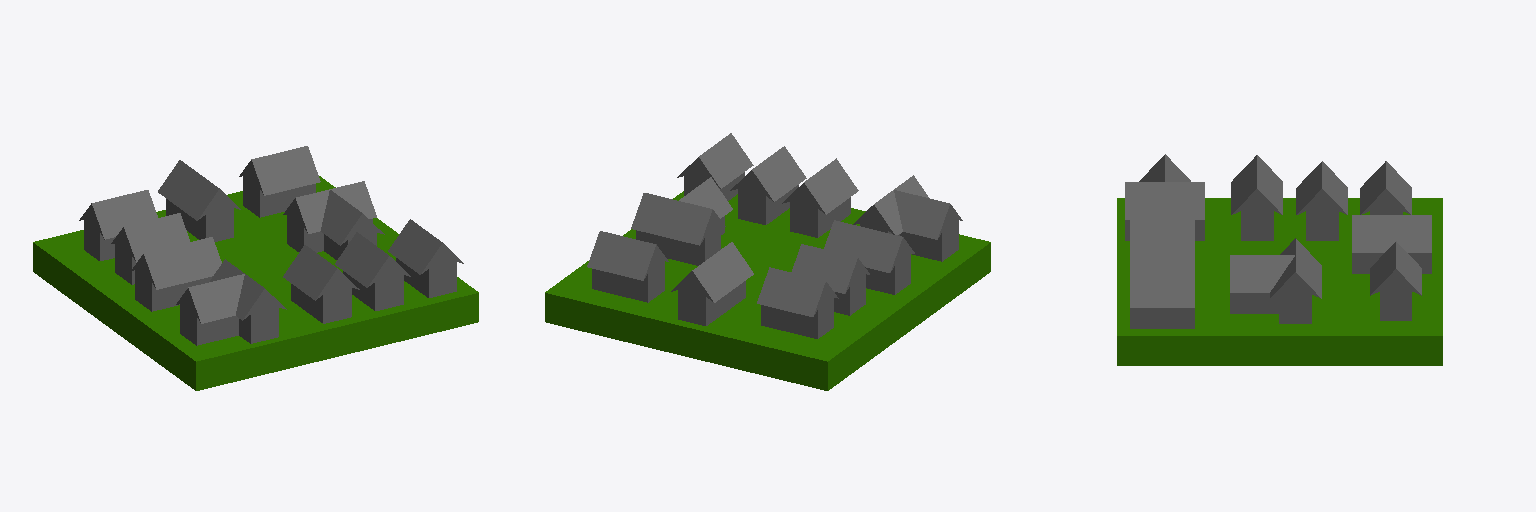
File: House.obj
3 renders of one model, left to right at view 1: azimuth 30°, elevation 25°; view 2: azimuth 150°, elevation 25°; view 3: azimuth 270°, elevation 25°, orthographic.
Visible parts, largest first — view 1: Tilebase100, Box604, Box599, Box598, Box603, Box606, Box608, Box607, Box609, Box600, Box602, Box605 (+1 smaller); view 2: Tilebase100, Box600, Box599, Box609, Box598, Box604, Box603, Box607, Box606, Box602, Box608, Box605 (+1 smaller); view 3: Tilebase100, Box608, Box598, Box604, Box605, Box601, Box602, Box599, Box600, Box609, Box603, Box607 (+1 smaller).
Part boxes in pixels (x1,y1,x2,y2): Tilebase100: (33, 176, 478, 390); Box604: (131, 237, 221, 311); Box599: (239, 146, 320, 217); Box598: (158, 160, 240, 241); Box603: (283, 245, 359, 323); Box606: (176, 274, 244, 345); Box608: (388, 219, 463, 297); Box607: (335, 232, 410, 310); Box609: (79, 190, 157, 260); Box600: (283, 181, 376, 252); Box602: (111, 213, 189, 284); Box605: (210, 259, 286, 343); Tilebase100: (545, 191, 990, 390); Box600: (631, 193, 725, 265); Box599: (587, 231, 668, 302); Box609: (757, 267, 838, 338); Box598: (671, 242, 753, 325); Box604: (824, 220, 914, 294); Box603: (782, 158, 858, 237); Box607: (730, 146, 806, 224); Box606: (894, 190, 962, 261); Box602: (791, 244, 869, 315); Box608: (677, 133, 753, 200); Box605: (853, 175, 928, 235); Tilebase100: (1117, 198, 1442, 365); Box608: (1130, 270, 1194, 328); Box598: (1352, 215, 1431, 273); Box604: (1231, 155, 1282, 240); Box605: (1125, 182, 1204, 240); Box601: (1230, 255, 1294, 313); Box602: (1296, 161, 1347, 240); Box599: (1370, 241, 1421, 320); Box600: (1270, 238, 1321, 323); Box609: (1360, 161, 1411, 214); Box603: (1130, 218, 1194, 243); Box607: (1130, 244, 1194, 269).
Bounding box in the file's own units: 10 × 2.77 × 10.